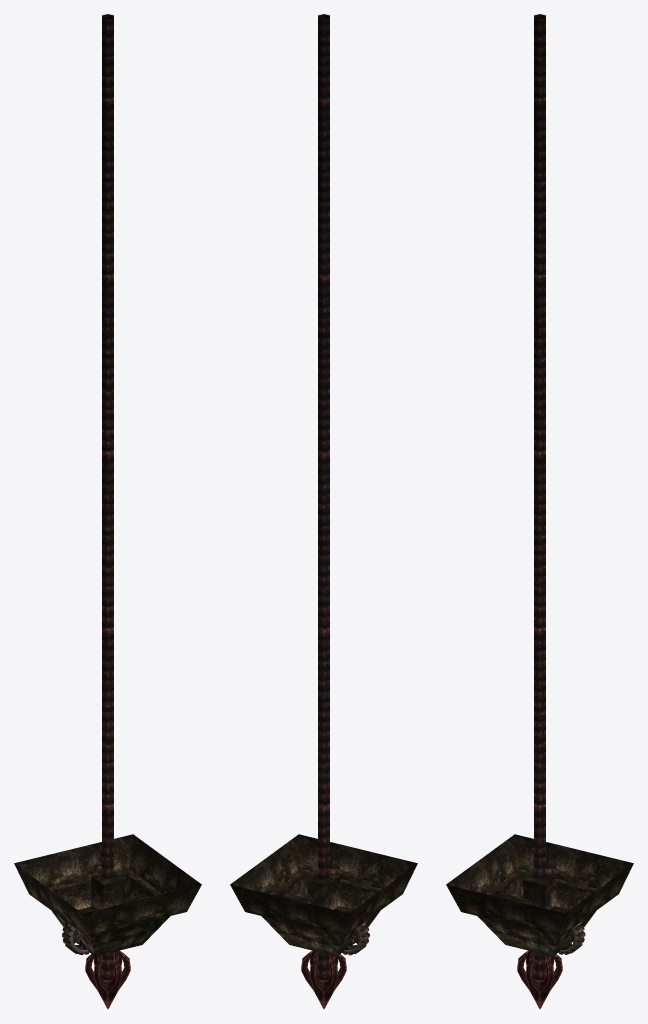
Rendered from roof_spike.dae.
The picture shows the model from 3 angles, left to right: view 1: azimuth 30°, elevation 25°; view 2: azimuth 150°, elevation 25°; view 3: azimuth 330°, elevation 25°; orthographic projection.
Parts seen in each view (by area): view 1: pCube1, polySurface8, polySurface10; view 2: pCube1, polySurface8, polySurface10; view 3: pCube1, polySurface8, polySurface9.
Boxes of the visible parts, bbox=[...] form: pCube1: bbox=[14, 834, 201, 956]; polySurface8: bbox=[85, 14, 130, 1009]; polySurface10: bbox=[62, 921, 89, 955]; pCube1: bbox=[230, 834, 417, 956]; polySurface8: bbox=[301, 14, 346, 1009]; polySurface10: bbox=[342, 921, 369, 955]; pCube1: bbox=[446, 834, 633, 956]; polySurface8: bbox=[517, 14, 562, 1009]; polySurface9: bbox=[558, 922, 585, 954].
Bounding box in the file's own units: 1 × 7.96 × 1.
